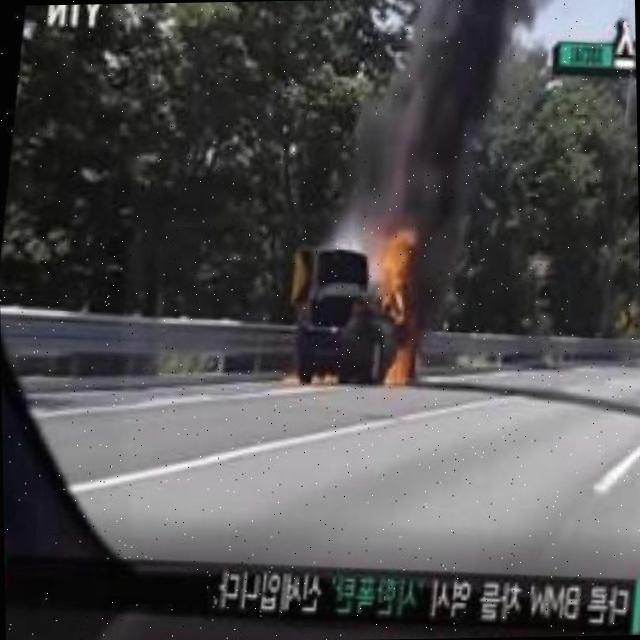fire: (356, 220, 435, 396)
